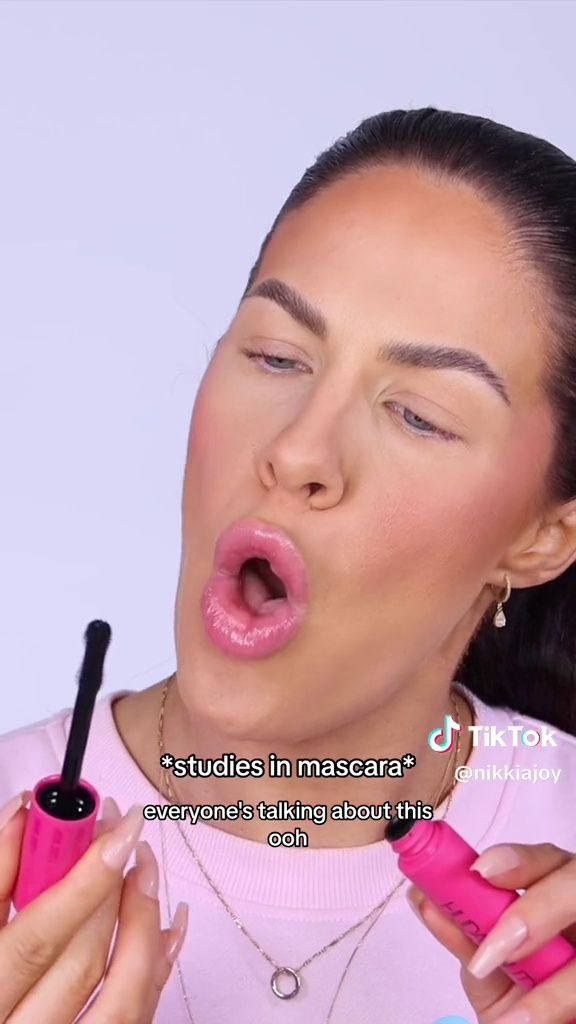train' :'yolo_data/train/images',: (375, 799, 575, 993), (11, 613, 120, 918)
